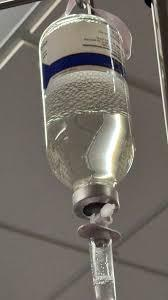Iv_Bottle: (39, 14, 133, 189)
